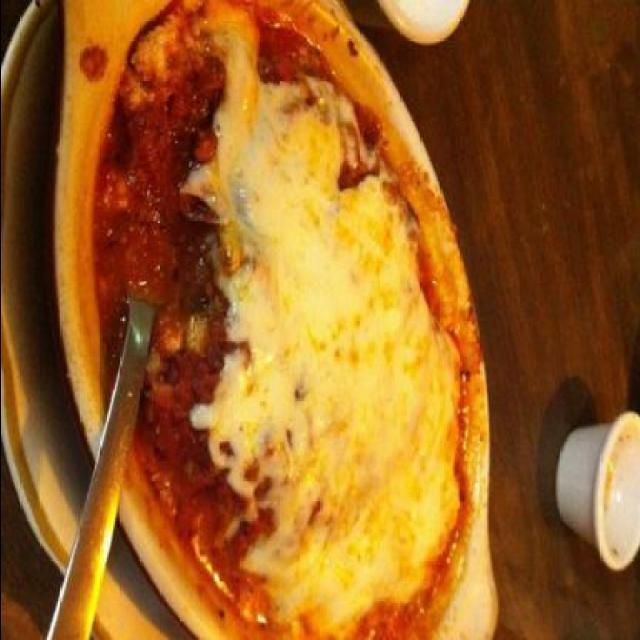Lasagna: (102, 26, 474, 617)
